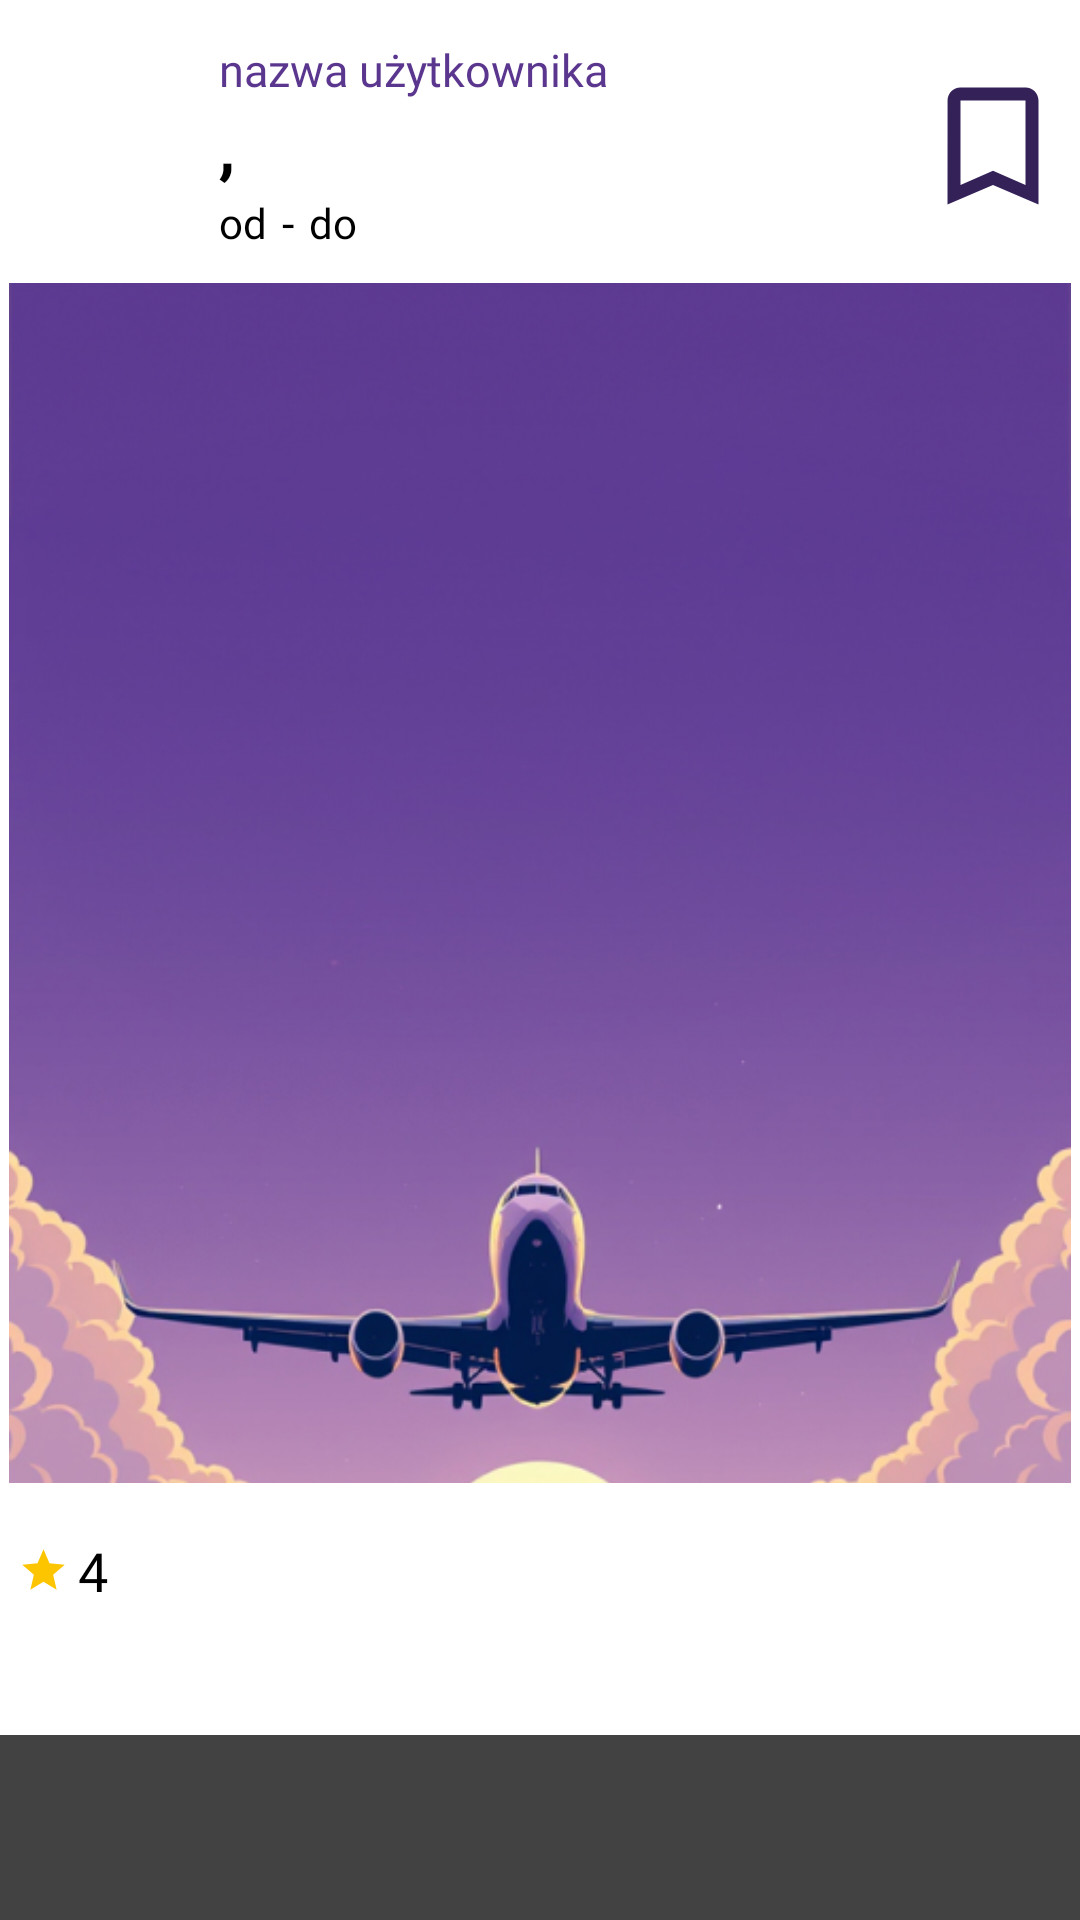

Screen size 1080x1920. Icon name, then its box in pixels as (x1, y1, x2, y2):
save: (947, 87, 1039, 205)
star: (22, 1549, 65, 1590)
